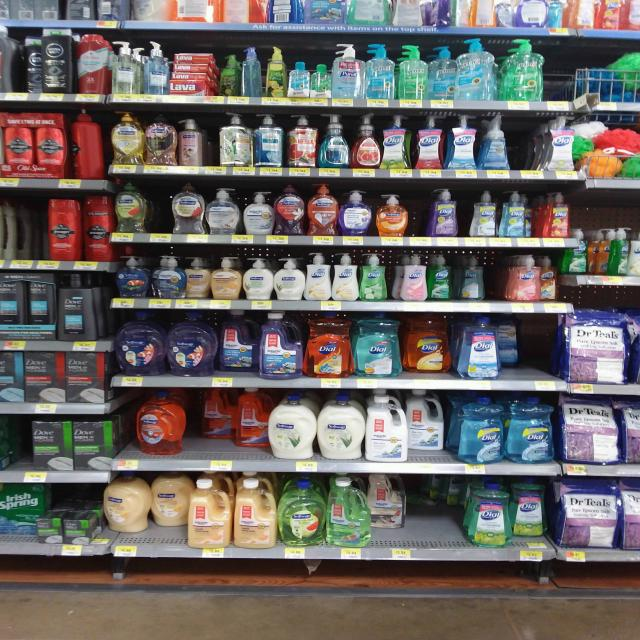unorganised: (101, 472, 185, 545), (186, 391, 271, 455), (403, 311, 453, 378), (459, 396, 505, 462), (510, 476, 553, 544), (372, 473, 411, 546), (408, 399, 450, 464), (68, 108, 104, 177), (218, 311, 255, 376), (498, 316, 535, 379), (85, 192, 112, 264), (17, 32, 40, 95), (177, 115, 204, 168), (216, 37, 238, 95), (459, 253, 486, 299), (541, 253, 561, 302)
